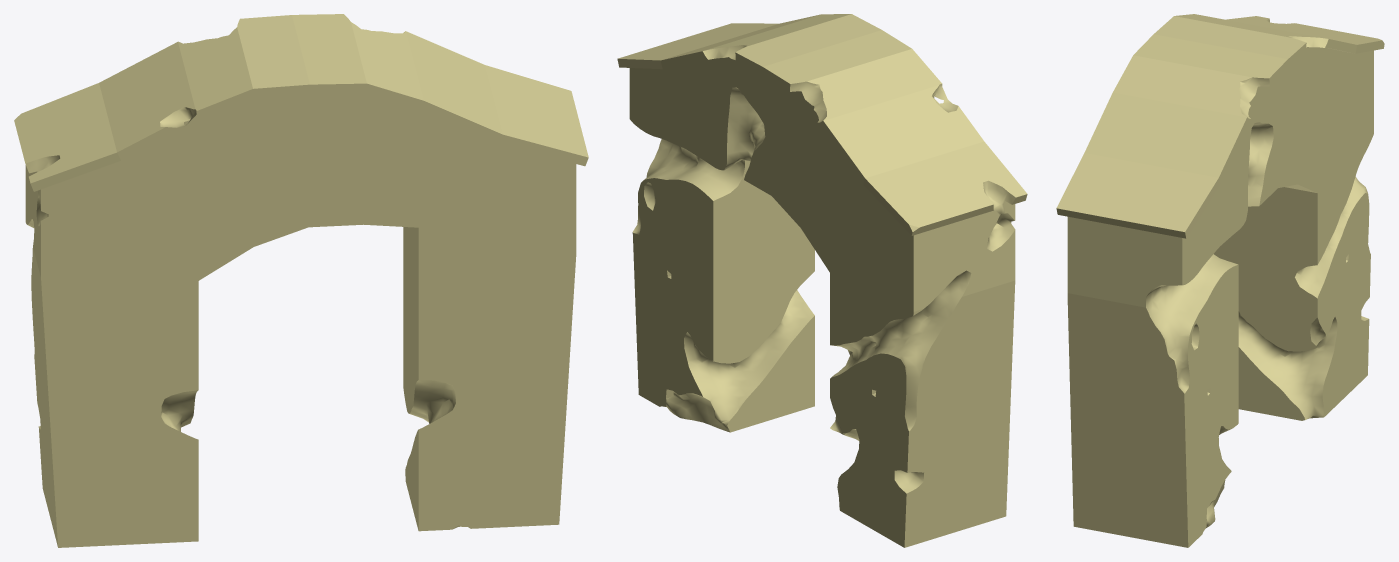
Rendered from Arch_Ruins_1.glb.
3 renders of one model, left to right at view 1: azimuth 30°, elevation 25°; view 2: azimuth 150°, elevation 25°; view 3: azimuth 270°, elevation 25°, orthographic. The views are drawn at different scales.
Parts seen in each view (by area): view 1: Arch_Ruins_1; view 2: Arch_Ruins_1; view 3: Arch_Ruins_1.
Boxes of the visible parts, x1=… form: Arch_Ruins_1: x1=14, y1=14, x2=588, y2=547; Arch_Ruins_1: x1=617, y1=14, x2=1027, y2=547; Arch_Ruins_1: x1=1056, y1=14, x2=1384, y2=547.
Size of the model in its own units: 8.17 by 7.12 by 5.24.
